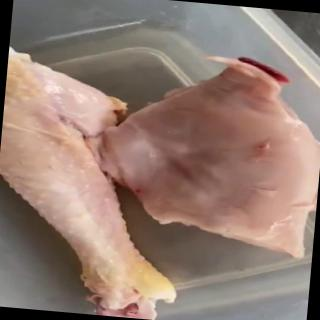Ayam: (1, 46, 197, 320), (76, 43, 320, 259)
